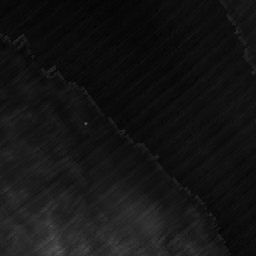Target: (82, 120, 89, 126)
